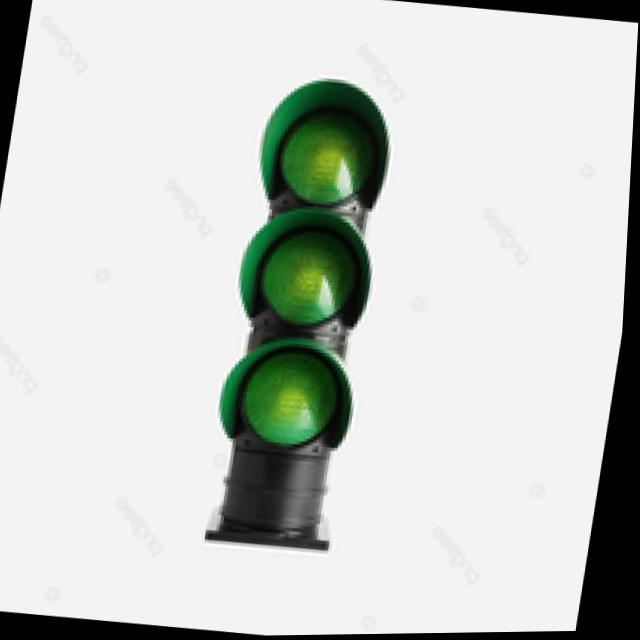green_light: (223, 59, 423, 211), (178, 325, 369, 484), (199, 194, 400, 345)
